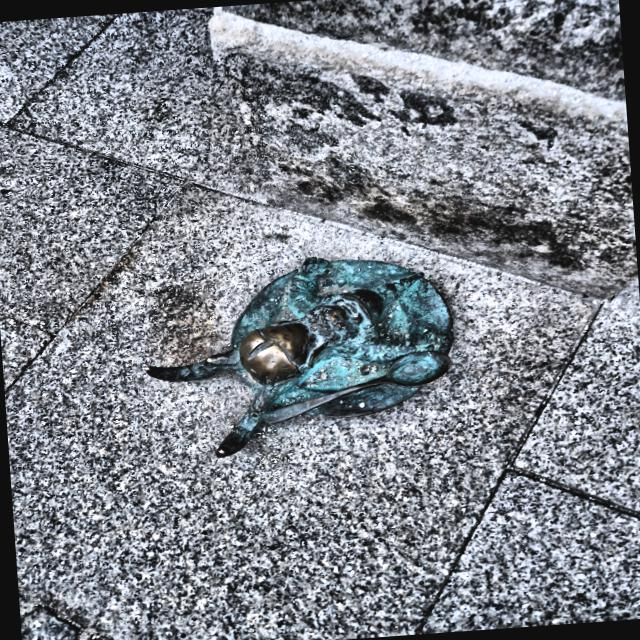Obiezysmak: (149, 258, 453, 456)
